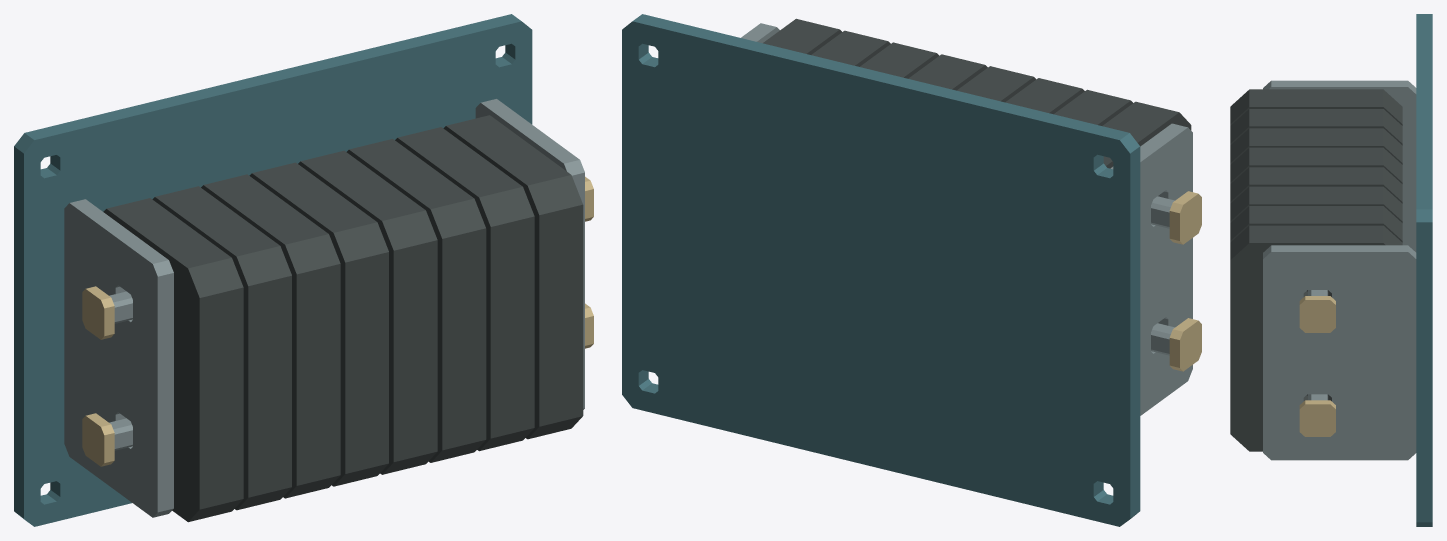
3 views of the same model, side by side, from view 1: azimuth 30°, elevation 25°; view 2: azimuth 150°, elevation 25°; view 3: azimuth 270°, elevation 25° (orthographic). The views are drawn at different scales.
Parts seen in each view (by area): view 1: CompleteFourHoleBackplate, SideBracket_1_TwoTrueBores, Lamella_01_TwinThroughHoles, Lamella_08_TwinThroughHoles, Lamella_06_TwinThroughHoles, Lamella_02_TwinThroughHoles, Lamella_04_TwinThroughHoles, Lamella_05_TwinThroughHoles, Lamella_07_TwinThroughHoles, Lamella_03_TwinThroughHoles, SideBracket_2_TwoTrueBores, Rod1LeftThickEndCap (+1 smaller); view 2: CompleteFourHoleBackplate, SideBracket_1_TwoTrueBores, Lamella_01_TwinThroughHoles, Lamella_06_TwinThroughHoles, Lamella_07_TwinThroughHoles, Lamella_03_TwinThroughHoles, Lamella_04_TwinThroughHoles, Lamella_05_TwinThroughHoles, Lamella_02_TwinThroughHoles, Lamella_08_TwinThroughHoles, Rod1LeftThickEndCap, Rod2LeftThickEndCap; view 3: SideBracket_2_TwoTrueBores, Lamella_08_TwinThroughHoles, CompleteFourHoleBackplate, SideBracket_1_TwoTrueBores, Lamella_04_TwinThroughHoles, Lamella_07_TwinThroughHoles, Lamella_01_TwinThroughHoles, Lamella_03_TwinThroughHoles, Lamella_05_TwinThroughHoles, Lamella_06_TwinThroughHoles, Lamella_02_TwinThroughHoles, Rod2RightThickEndCap (+1 smaller).
Part boxes in pixels (x1,y1,x2,y2): CompleteFourHoleBackplate: (14,14,532,526); SideBracket_1_TwoTrueBores: (64,199,173,517); Lamella_01_TwinThroughHoles: (103,198,243,522); Lamella_08_TwinThroughHoles: (443,115,583,439); Lamella_06_TwinThroughHoles: (346,139,486,462); Lamella_02_TwinThroughHoles: (152,186,291,510); Lamella_04_TwinThroughHoles: (249,162,388,486); Lamella_05_TwinThroughHoles: (298,150,437,474); Lamella_07_TwinThroughHoles: (395,127,534,451); Lamella_03_TwinThroughHoles: (201,174,340,498); SideBracket_2_TwoTrueBores: (475,99,584,409); Rod1LeftThickEndCap: (82,413,114,466); CompleteFourHoleBackplate: (622,14,1140,526); SideBracket_1_TwoTrueBores: (1110,123,1192,415); Lamella_01_TwinThroughHoles: (1102,101,1191,168); Lamella_06_TwinThroughHoles: (860,42,939,78); Lamella_07_TwinThroughHoles: (811,30,890,66); Lamella_03_TwinThroughHoles: (1005,78,1084,114); Lamella_04_TwinThroughHoles: (957,66,1036,102); Lamella_05_TwinThroughHoles: (908,54,987,90); Lamella_02_TwinThroughHoles: (1054,89,1132,125); Lamella_08_TwinThroughHoles: (763,18,841,54); Rod1LeftThickEndCap: (1169,318,1201,371); Rod2LeftThickEndCap: (1169,191,1201,244); SideBracket_2_TwoTrueBores: (1263,245,1416,460); Lamella_08_TwinThroughHoles: (1230,225,1402,451); CompleteFourHoleBackplate: (1416,14,1432,526); SideBracket_1_TwoTrueBores: (1263,80,1416,252); Lamella_04_TwinThroughHoles: (1230,147,1402,183); Lamella_07_TwinThroughHoles: (1230,206,1402,395); Lamella_01_TwinThroughHoles: (1230,89,1402,125); Lamella_03_TwinThroughHoles: (1230,128,1402,164); Lamella_05_TwinThroughHoles: (1230,167,1402,203); Lamella_06_TwinThroughHoles: (1230,186,1402,222); Lamella_02_TwinThroughHoles: (1230,109,1402,145); Rod2RightThickEndCap: (1299,296,1335,332).
Bounding box in the file's own units: 0.88 × 0.64 × 0.37.
